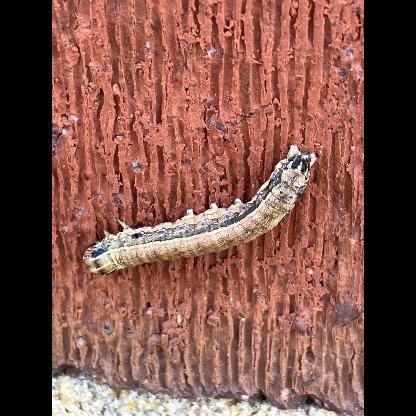Fall Armyworm Larvae: (76, 140, 322, 280)
